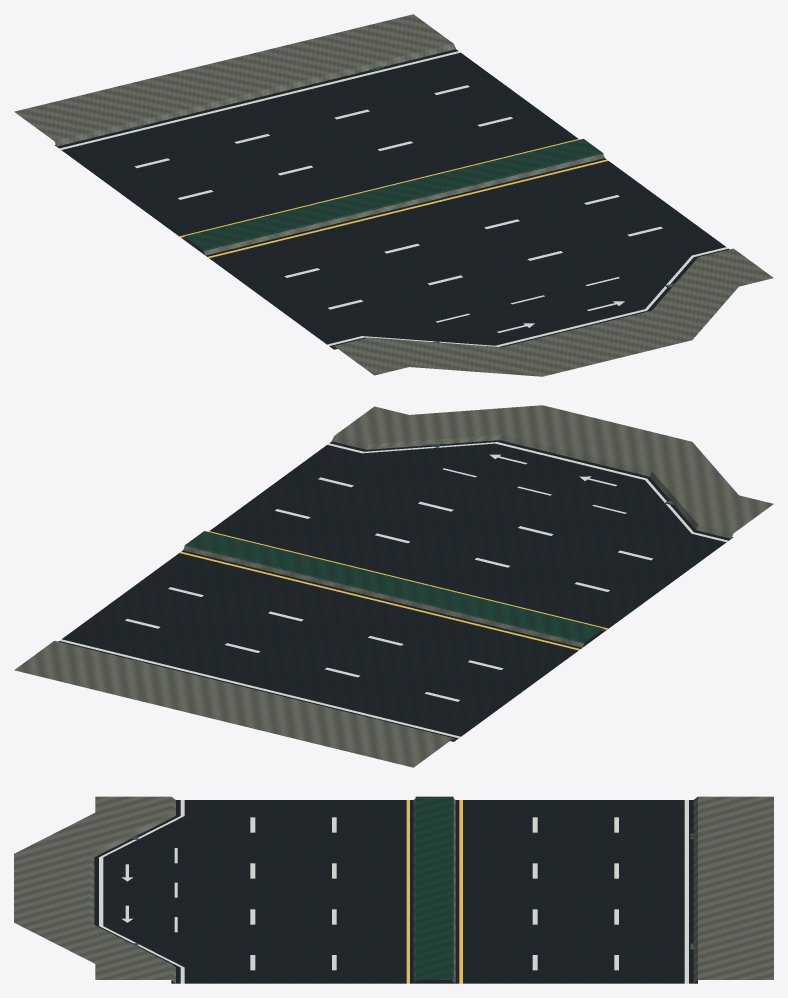
File: road_arterial_6lane_16m_turn_bay_LOD0.glb
The picture shows the model from 3 angles, top to bottom: view 1: azimuth 30°, elevation 25°; view 2: azimuth 150°, elevation 25°; view 3: azimuth 270°, elevation 25°; orthographic projection. The views are drawn at different scales.
Parts seen in each view (by area): view 1: road_arterial_6lane_16m_turn_bay__surface, road_arterial_6lane_16m_turn_bay__markings; view 2: road_arterial_6lane_16m_turn_bay__surface, road_arterial_6lane_16m_turn_bay__markings; view 3: road_arterial_6lane_16m_turn_bay__surface, road_arterial_6lane_16m_turn_bay__markings, road_arterial_6lane_16m_turn_bay__inset_bay.
Boxes of the visible parts, x1=… form: road_arterial_6lane_16m_turn_bay__surface: x1=14, y1=14, x2=773, y2=376; road_arterial_6lane_16m_turn_bay__markings: x1=59, y1=51, x2=728, y2=346; road_arterial_6lane_16m_turn_bay__surface: x1=14, y1=405, x2=773, y2=767; road_arterial_6lane_16m_turn_bay__markings: x1=59, y1=442, x2=728, y2=738; road_arterial_6lane_16m_turn_bay__surface: x1=14, y1=796, x2=773, y2=983; road_arterial_6lane_16m_turn_bay__markings: x1=99, y1=800, x2=688, y2=983; road_arterial_6lane_16m_turn_bay__inset_bay: x1=121, y1=848, x2=177, y2=932.
Bounding box in the file's own units: 16 × 0.15 × 28.
8 materials, 4 textured.
